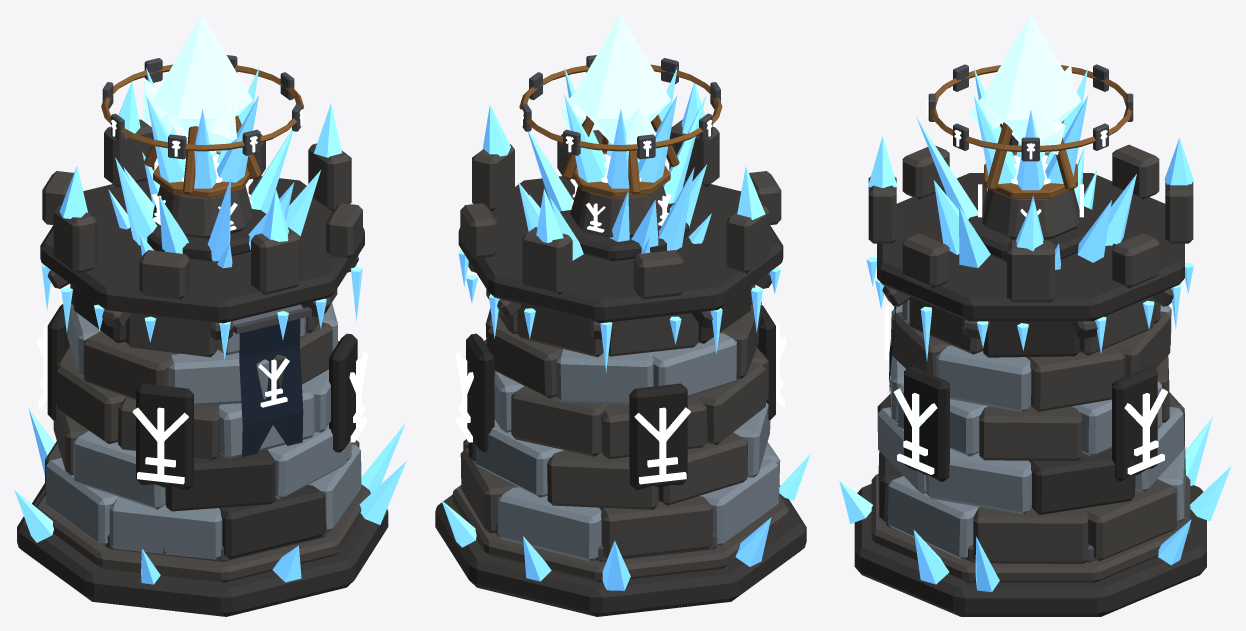
File: rune_tower_permafrost.glb
The picture shows the model from 3 angles, left to right: view 1: azimuth 30°, elevation 25°; view 2: azimuth 150°, elevation 25°; view 3: azimuth 270°, elevation 25°; orthographic projection.
Parts seen in each view (by area): view 1: Platform, Plinth, Plinth_Step, Banner, Crystal_Main, Block_0_5, Block_0_6, Block_1_5, RuneStone_3, Block_3_4, Block_1_4, Block_3_5 (+48 smaller); view 2: Platform, Plinth, Crystal_Main, Plinth_Step, Block_0_3, Block_0_2, Block_1_2, Block_2_2, RuneStone_2, Block_3_2, Block_3_3, Block_1_3 (+45 smaller); view 3: Platform, Plinth, Crystal_Main, Plinth_Step, Block_0_0, Block_2_0, Block_1_0, Block_1_7, Block_3_7, Block_3_0, Block_0_1, Block_0_7 (+45 smaller).
Part boxes in pixels (left/top/right/bottom): Platform: left=40, top=176, right=364, bottom=323; Plinth: left=17, top=483, right=388, bottom=616; Plinth_Step: left=36, top=484, right=370, bottom=582; Banner: left=239, top=319, right=303, bottom=456; Crystal_Main: left=153, top=14, right=252, bottom=137; Block_0_5: left=109, top=497, right=222, bottom=559; Block_0_6: left=219, top=485, right=325, bottom=558; Block_1_5: left=165, top=449, right=275, bottom=511; RuneStone_3: left=136, top=383, right=193, bottom=489; Block_3_4: left=83, top=331, right=179, bottom=400; Block_1_4: left=73, top=431, right=165, bottom=509; Block_3_5: left=168, top=350, right=269, bottom=405; Platform: left=458, top=176, right=783, bottom=323; Plinth: left=435, top=485, right=806, bottom=616; Crystal_Main: left=570, top=14, right=670, bottom=144; Plinth_Step: left=452, top=485, right=789, bottom=582; Block_0_3: left=599, top=496, right=712, bottom=558; Block_0_2: left=497, top=487, right=601, bottom=561; Block_1_2: left=547, top=450, right=659, bottom=509; Block_2_2: left=511, top=386, right=609, bottom=456; RuneStone_2: left=629, top=383, right=687, bottom=489; Block_3_2: left=556, top=349, right=653, bottom=404; Block_3_3: left=652, top=333, right=736, bottom=397; Block_1_3: left=659, top=432, right=747, bottom=505; Platform: left=877, top=173, right=1184, bottom=321; Plinth: left=854, top=483, right=1206, bottom=616; Crystal_Main: left=983, top=14, right=1081, bottom=144; Plinth_Step: left=871, top=474, right=1190, bottom=582; Block_0_0: left=973, top=507, right=1088, bottom=563; Block_2_0: left=979, top=406, right=1082, bottom=460; Block_1_0: left=1029, top=448, right=1135, bottom=514; Block_1_7: left=926, top=449, right=1031, bottom=514; Block_3_7: left=936, top=345, right=1031, bottom=412; Block_3_0: left=1026, top=345, right=1125, bottom=411; Block_0_1: left=1086, top=479, right=1176, bottom=561; Block_0_7: left=887, top=476, right=979, bottom=559.
Size of the model in its own units: 2.85 by 4.15 by 2.78.
